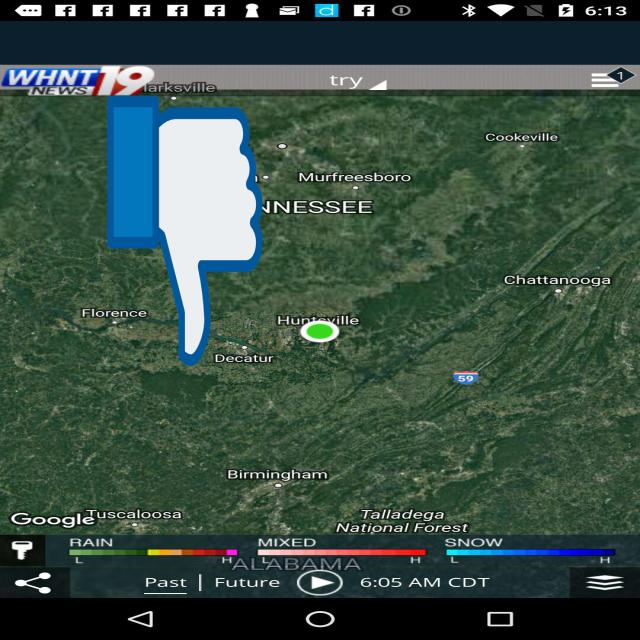obstruction: (107, 90, 263, 372)
